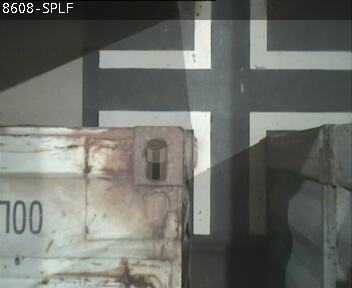groundmarker_1: (99, 111, 352, 234), (99, 1, 352, 69)
